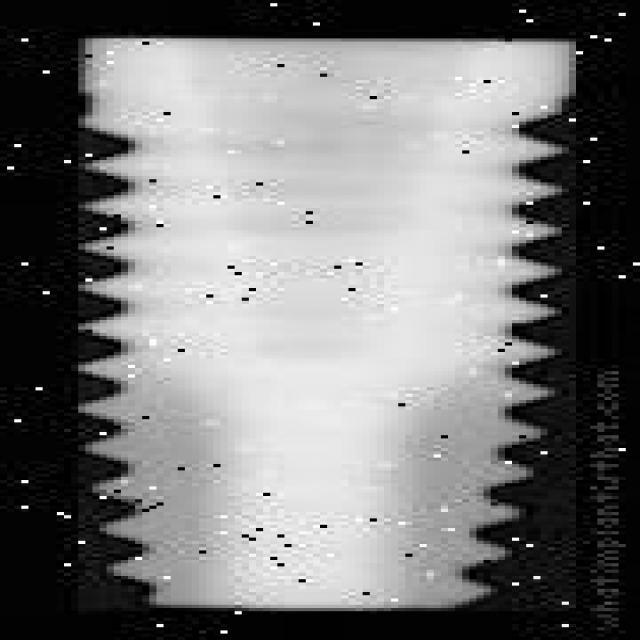Retained root: (72, 38, 577, 613)
